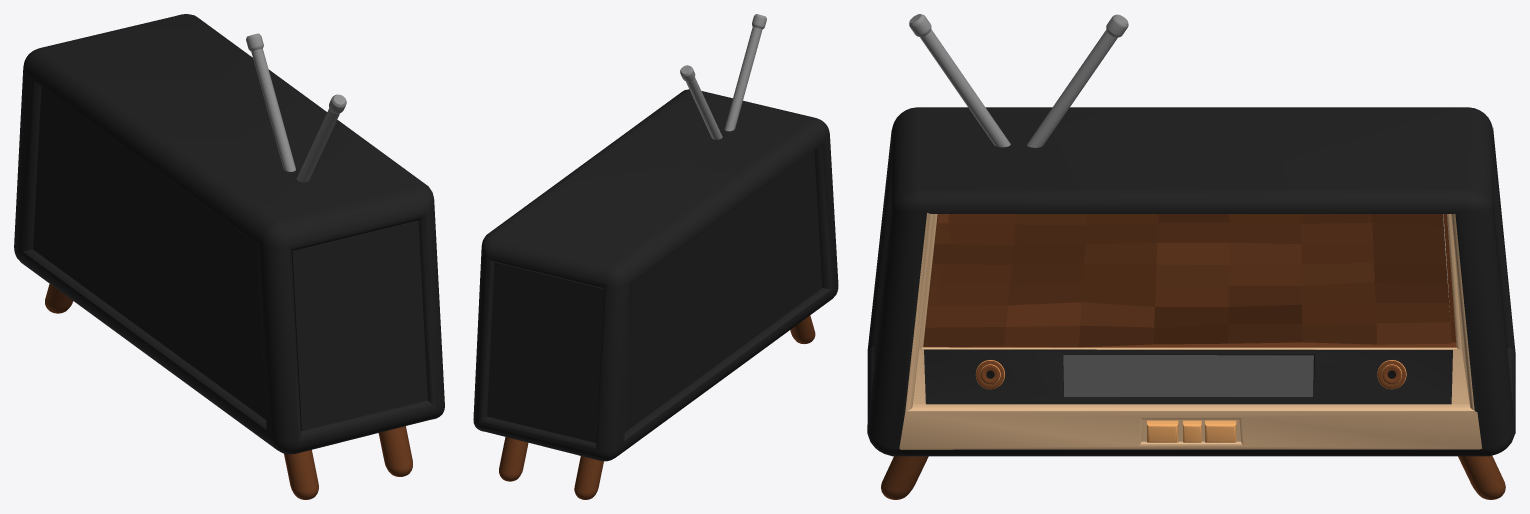
The model's file is Radio1900.fbx.
3 views of the same model, side by side, from view 1: azimuth 30°, elevation 25°; view 2: azimuth 150°, elevation 25°; view 3: azimuth 270°, elevation 25° (orthographic). The views are drawn at different scales.
Parts seen in each view (by area): view 1: Cube; view 2: Cube; view 3: Cube.
Boxes of the visible parts, x1,y1,x2,y2 form: Cube: [14, 14, 444, 499]; Cube: [473, 14, 838, 499]; Cube: [867, 14, 1515, 499].
Size of the model in its own units: 80.03 by 167 by 217.
